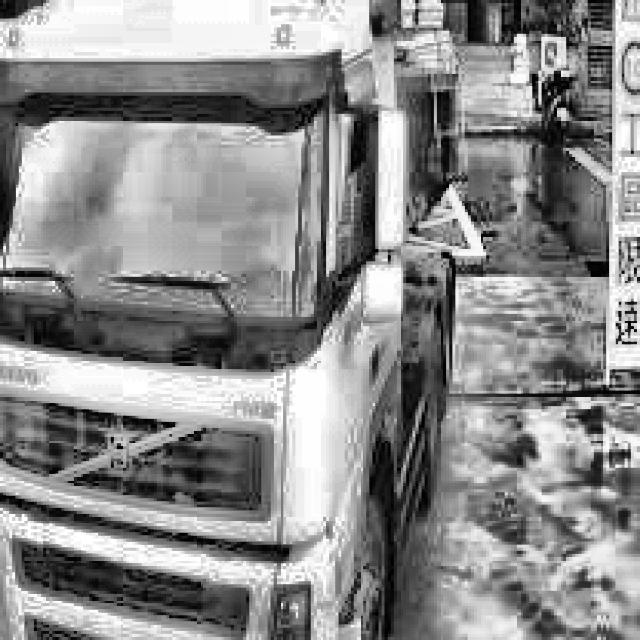dump_truck: (0, 0, 462, 640)
